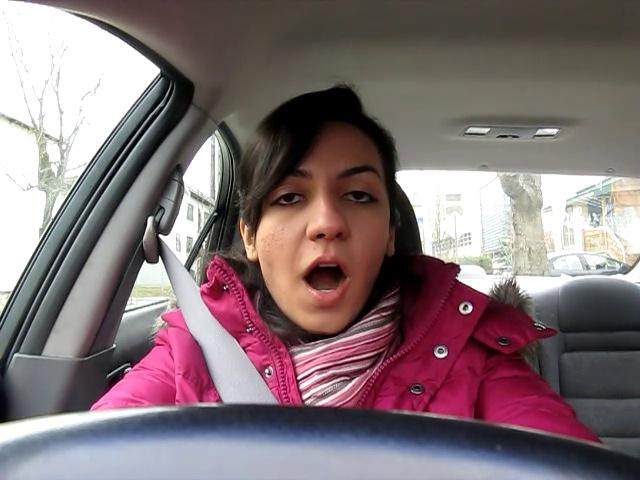close_eyeL: (260, 184, 317, 217)
close_eyeR: (328, 184, 392, 216)
yawn: (283, 253, 366, 305)
